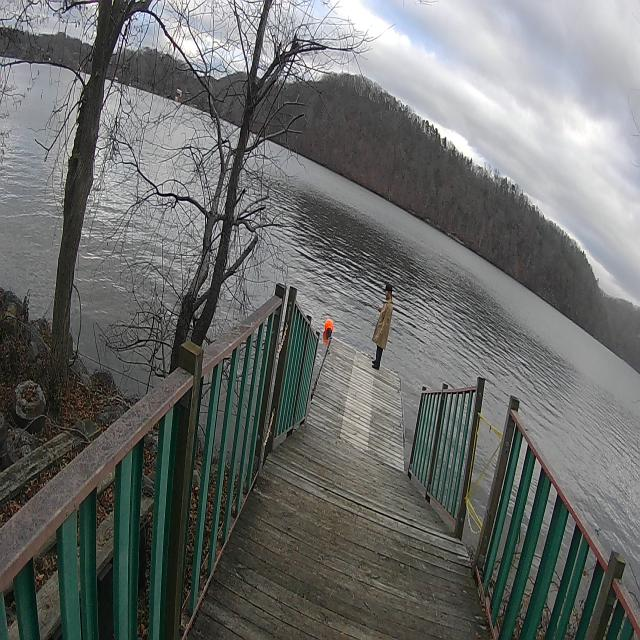Buoy: (322, 316, 336, 342)
